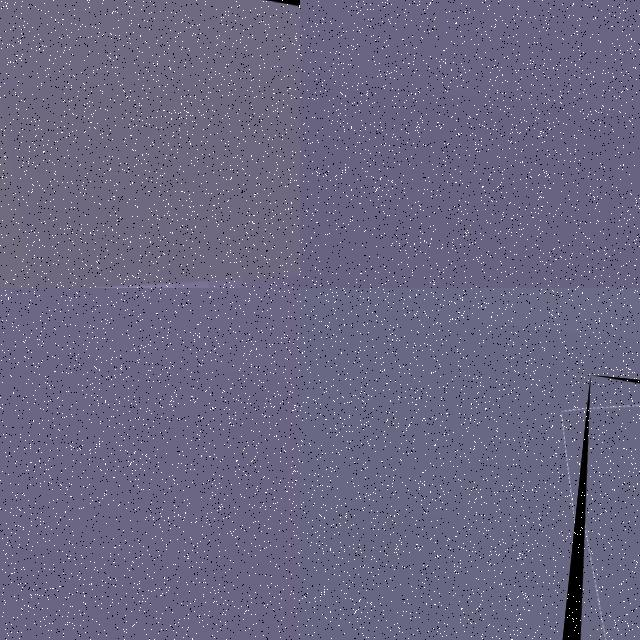drone: (0, 0, 300, 288), (540, 374, 640, 640)
